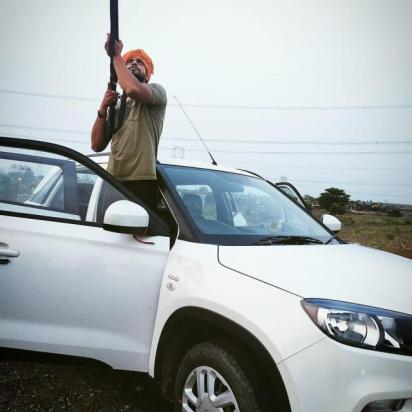Gun: (104, 0, 121, 141)
